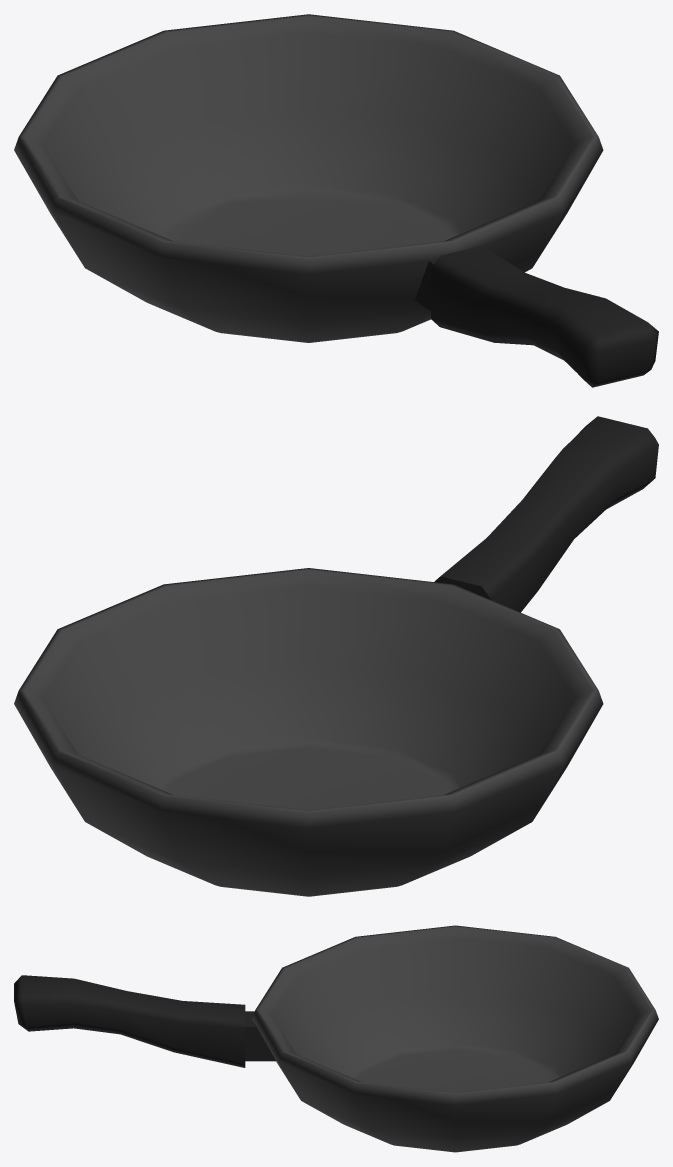
File: prop_005.fbx
The picture shows the model from 3 angles, top to bottom: view 1: azimuth 30°, elevation 25°; view 2: azimuth 150°, elevation 25°; view 3: azimuth 270°, elevation 25°; orthographic projection. The views are drawn at different scales.
Parts seen in each view (by area): view 1: prop_005; view 2: prop_005; view 3: prop_005.
Boxes of the visible parts, bbox=[...] form: prop_005: bbox=[14, 14, 658, 387]; prop_005: bbox=[14, 416, 658, 896]; prop_005: bbox=[14, 925, 658, 1152].
Size of the model in its own units: 41.64 by 66 by 13.25.
